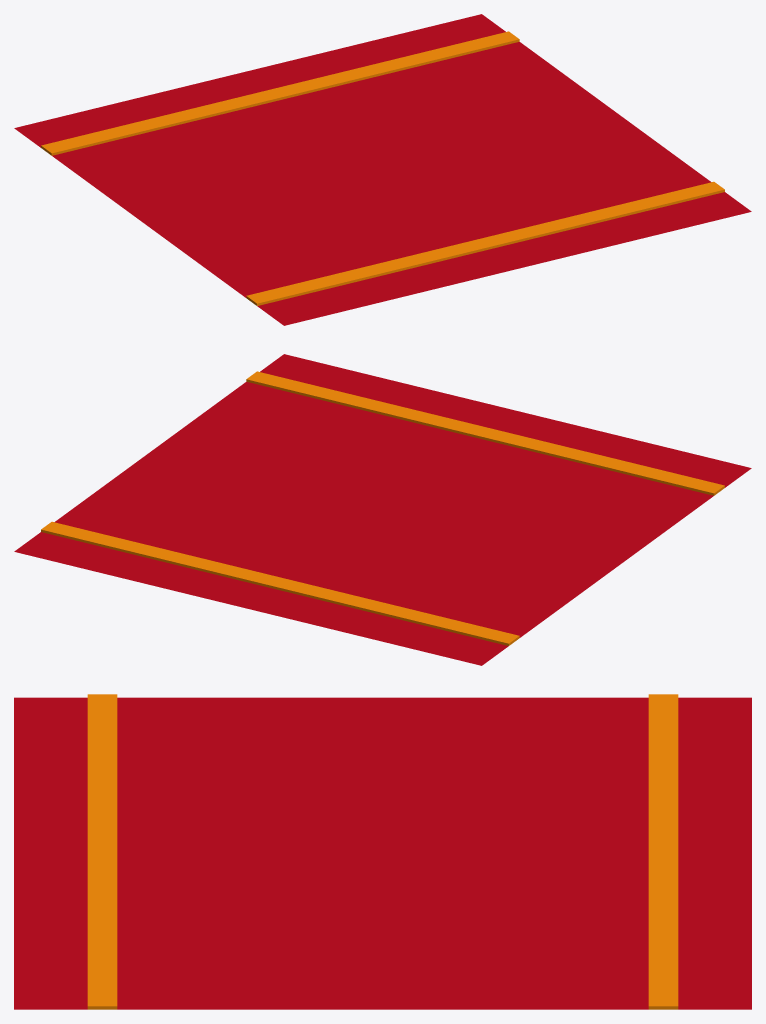
The model's file is Jutan_typeA.fbx.
3 views of the same model, one above another, from view 1: azimuth 30°, elevation 25°; view 2: azimuth 150°, elevation 25°; view 3: azimuth 270°, elevation 25° (orthographic). The views are drawn at different scales.
Parts seen in each view (by area): view 1: Plane.001; view 2: Plane.001; view 3: Plane.001.
Part boxes in pixels (x1,y1,x2,y2): Plane.001: (14,14,751,325); Plane.001: (14,354,751,665); Plane.001: (14,694,751,1009).
Bounding box in the file's own units: 200 × 1 × 200.
